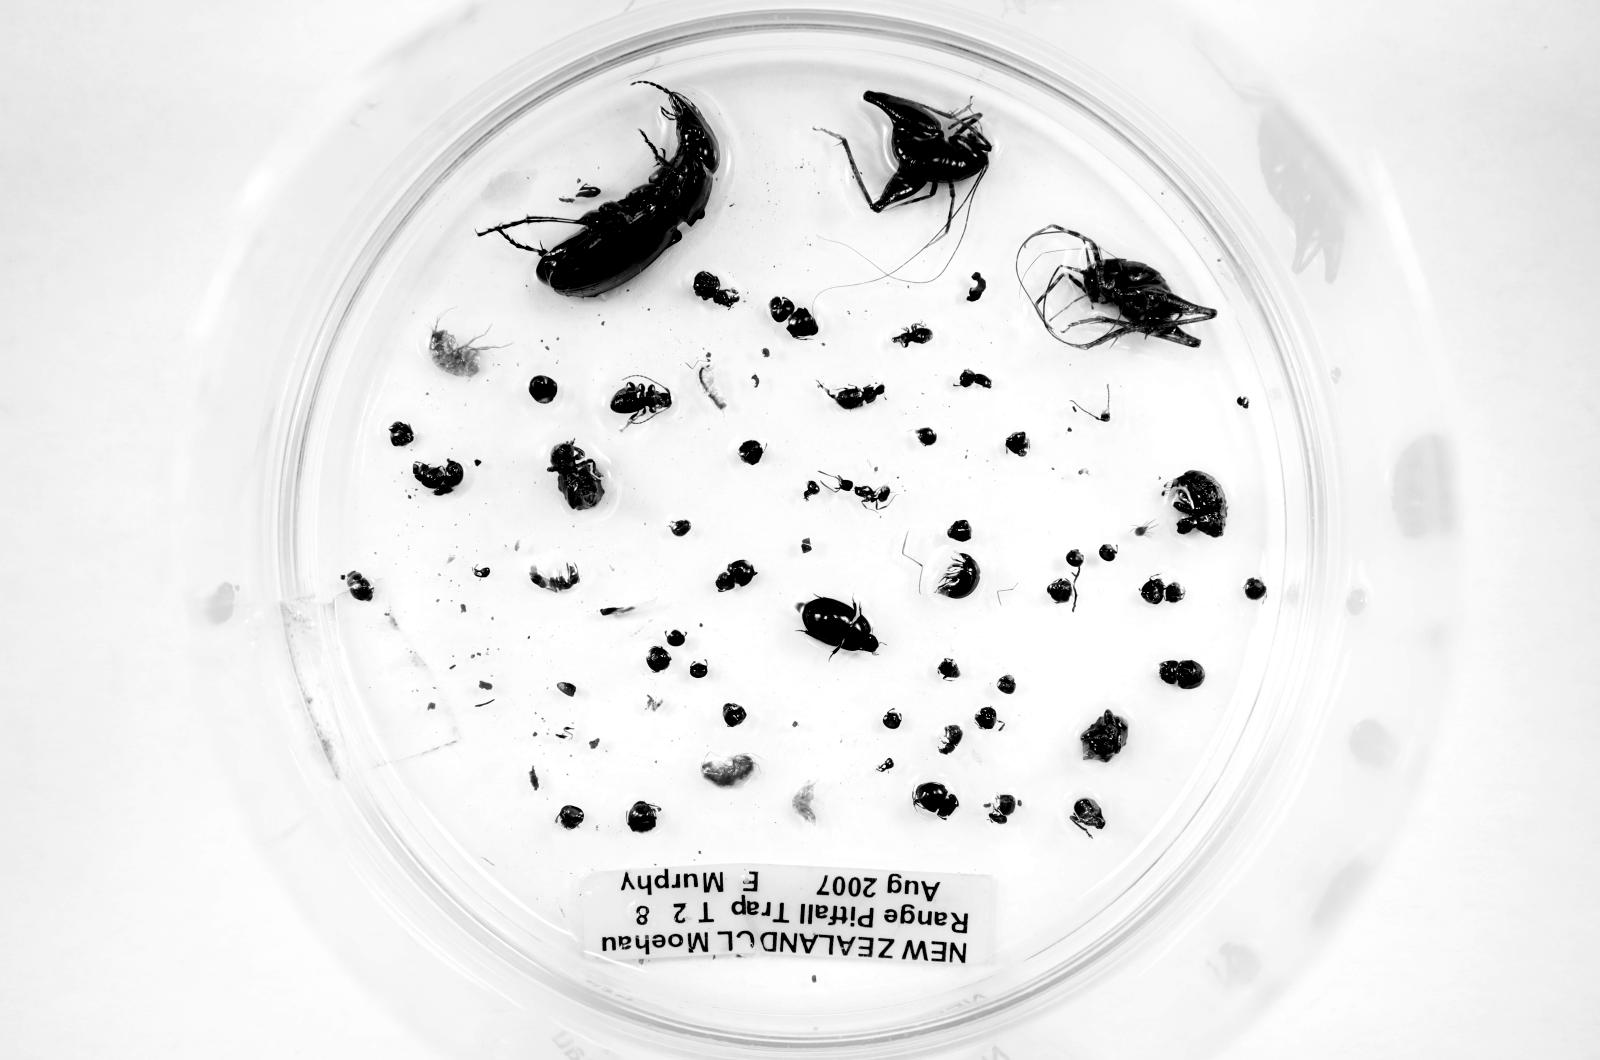acari: (1133, 519, 1159, 537)
amphipoda: (429, 327, 507, 377), (701, 754, 757, 787), (695, 360, 726, 411)
carabidae: (478, 83, 719, 296)
coleoptera: (797, 597, 879, 653), (548, 440, 604, 510), (1170, 470, 1227, 537), (610, 377, 672, 426), (934, 552, 980, 599), (769, 296, 818, 338), (693, 271, 740, 308), (913, 782, 958, 819), (827, 383, 885, 409), (715, 560, 757, 593), (1159, 660, 1204, 689), (893, 322, 933, 348), (412, 461, 446, 491), (434, 460, 464, 495), (986, 794, 1021, 823), (342, 570, 374, 601), (939, 725, 963, 755), (1237, 395, 1249, 408)
formicidae: (836, 477, 892, 510), (530, 564, 579, 593)
orthoptera: (1016, 225, 1217, 349), (802, 90, 991, 212)
